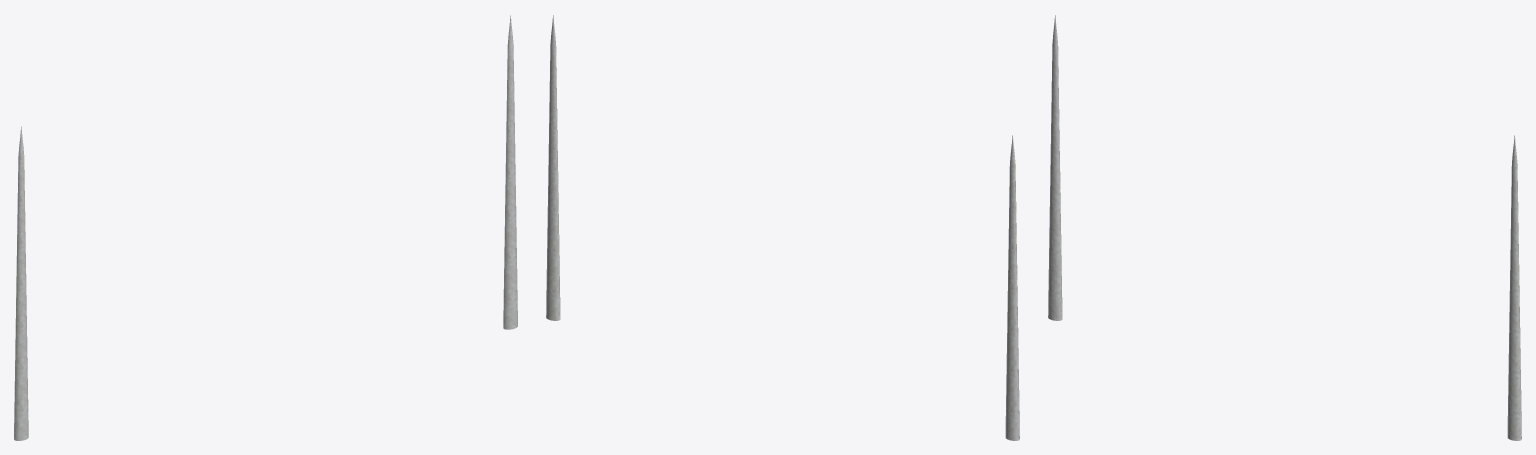
The model's file is SM_Ponte_Antenne_LOD1.fbx.
3 views of the same model, side by side, from view 1: azimuth 30°, elevation 25°; view 2: azimuth 150°, elevation 25°; view 3: azimuth 330°, elevation 25° (orthographic). The views are drawn at different scales.
Parts seen in each view (by area): view 1: SM_Ponte_Antenne_LOD1; view 2: SM_Ponte_Antenne_LOD1; view 3: SM_Ponte_Antenne_LOD1.
Boxes of the visible parts, x1,y1,x2,y2 form: SM_Ponte_Antenne_LOD1: (14,15,517,440); SM_Ponte_Antenne_LOD1: (546,15,1019,440); SM_Ponte_Antenne_LOD1: (1048,15,1521,440).
Bounding box in the file's own units: 4960 × 235 × 3000.
1 material, 1 textured.
